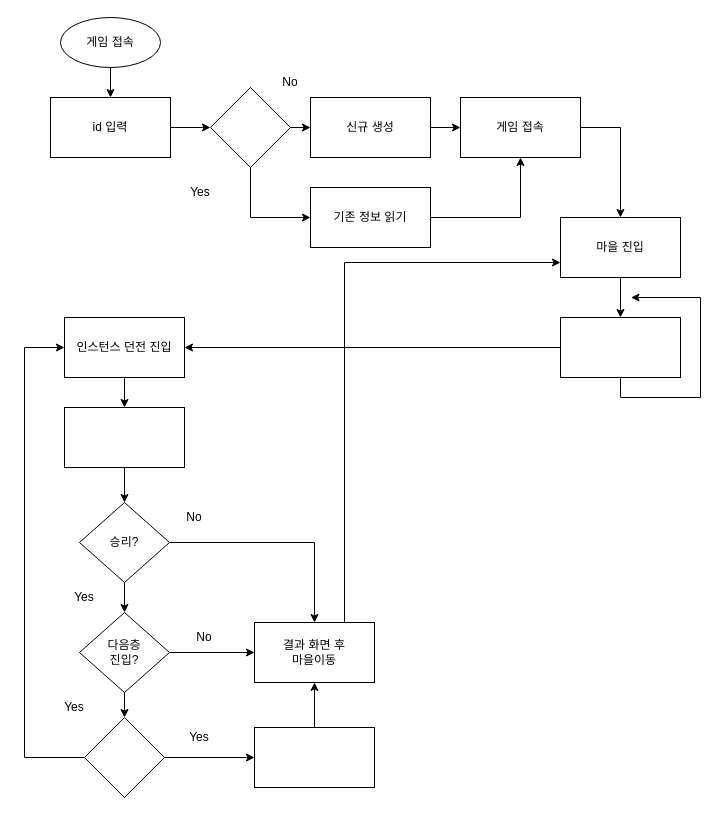
This 726x815 diagram has some shape labels left out. Each missing label, with the centre of its shape:
"기존 유저인가?" goes at point (250, 127).
"마을 이동 및 상호작용" goes at point (620, 347).
"보스 전투" goes at point (314, 757).
"보스방?" goes at point (124, 757).
"전투" goes at point (124, 437).
